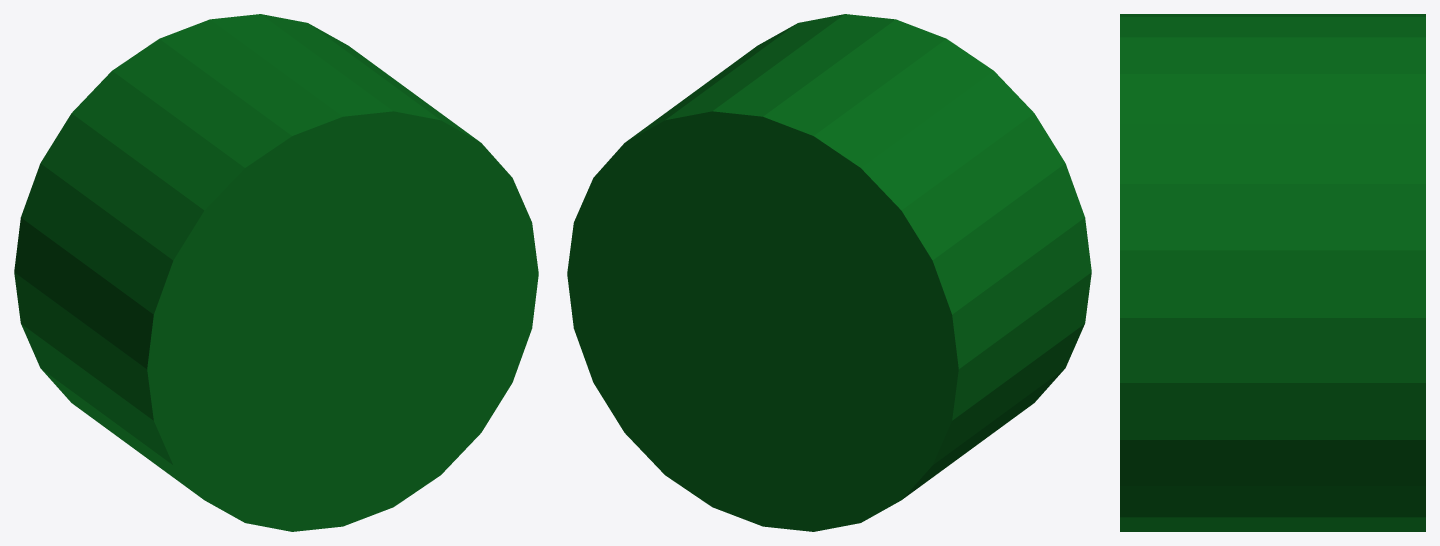
The model's file is Part_StartPivot.obj.
3 renders of one model, left to right at view 1: azimuth 30°, elevation 25°; view 2: azimuth 150°, elevation 25°; view 3: azimuth 270°, elevation 25°, orthographic. The views are drawn at different scales.
Parts seen in each view (by area): view 1: StartButton; view 2: StartButton; view 3: StartButton.
Boxes of the visible parts, box(x1,y1,x2,y2) form: StartButton: box(14, 14, 538, 531); StartButton: box(567, 14, 1091, 531); StartButton: box(1120, 14, 1425, 531).
Size of the model in its own units: 0.085 by 0.085 by 0.05.
